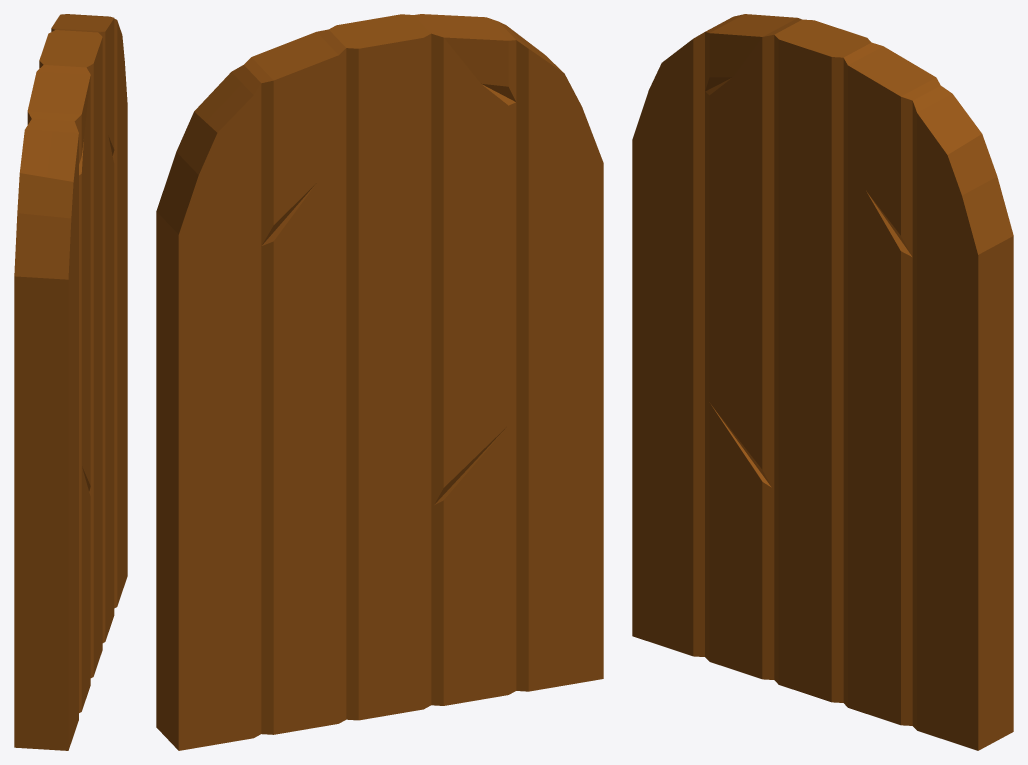
The model's file is Door.glb.
3 renders of one model, left to right at view 1: azimuth 30°, elevation 25°; view 2: azimuth 150°, elevation 25°; view 3: azimuth 270°, elevation 25°, orthographic. The views are drawn at different scales.
Parts seen in each view (by area): view 1: CurvedDoor.001; view 2: CurvedDoor.001; view 3: CurvedDoor.001.
Part boxes in pixels (x1,y1,x2,y2): CurvedDoor.001: (14, 14, 127, 750); CurvedDoor.001: (156, 14, 603, 750); CurvedDoor.001: (632, 14, 1013, 750).
Size of the model in its own units: 1.73 by 3.89 by 2.08.
